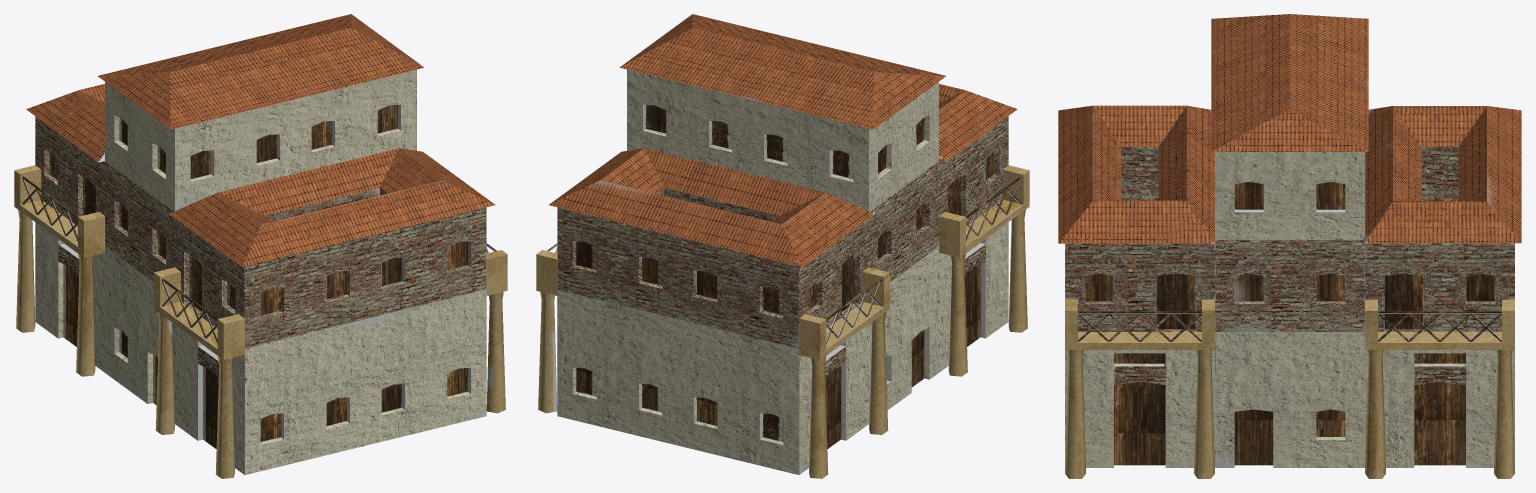
Rendered from insula2.fbx.
3 renders of one model, left to right at view 1: azimuth 30°, elevation 25°; view 2: azimuth 150°, elevation 25°; view 3: azimuth 270°, elevation 25°, orthographic. The views are drawn at different scales.
Visible parts, largest first — view 1: insula2; view 2: insula2; view 3: insula2.
Part boxes in pixels (x1,y1,x2,y2): insula2: (14, 14, 507, 478); insula2: (536, 14, 1029, 478); insula2: (1058, 14, 1521, 478).
Bounding box in the file's own units: 67.5 × 72.86 × 88.75.
